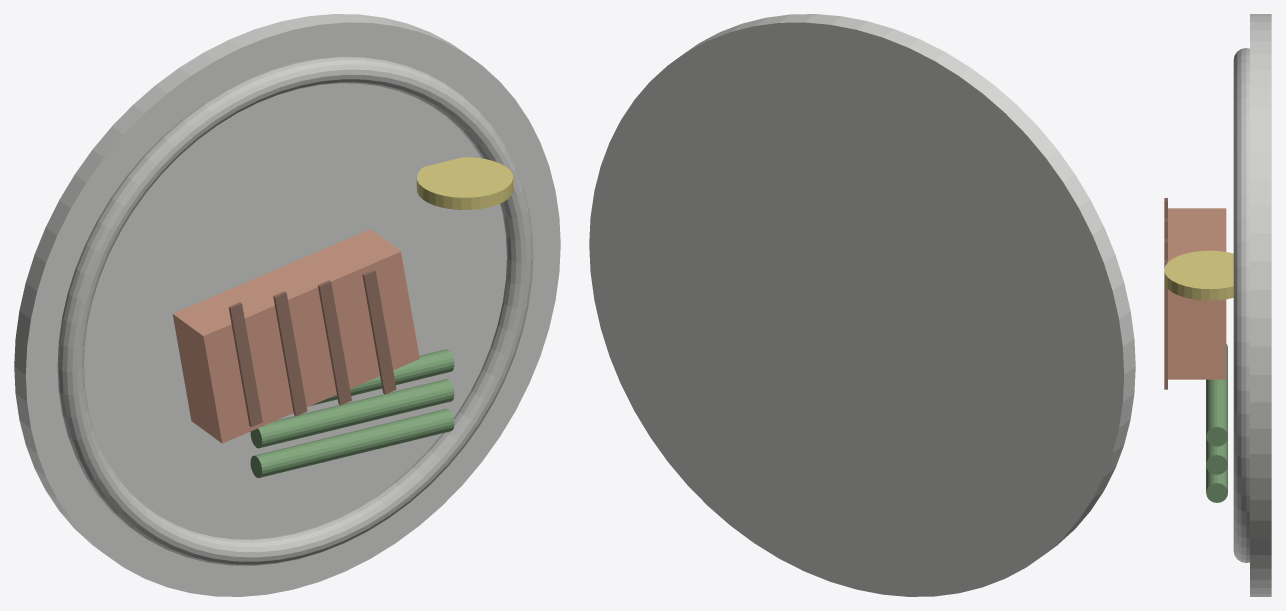
Rendered from grilled_salmon.glb.
3 renders of one model, left to right at view 1: azimuth 30°, elevation 25°; view 2: azimuth 150°, elevation 25°; view 3: azimuth 270°, elevation 25°, orthographic. The views are drawn at different scales.
Parts seen in each view (by area): view 1: plate, plate_rim, salmon, asp0, asp1, lemon, grill1, grill2, grill3, grill0, asp2; view 2: plate; view 3: plate, plate_rim, salmon, lemon, asp2, asp1, asp0, grill3.
Part boxes in pixels (x1,y1,x2,y2): plate: [14, 14, 560, 596]; plate_rim: [57, 56, 533, 565]; salmon: [172, 229, 419, 443]; asp0: [250, 408, 454, 477]; asp1: [250, 379, 454, 448]; lemon: [416, 157, 512, 209]; grill1: [273, 291, 307, 416]; grill2: [317, 280, 351, 405]; grill3: [362, 269, 396, 394]; grill0: [228, 302, 262, 426]; asp2: [311, 349, 454, 405]; plate: [589, 14, 1135, 596]; plate: [1250, 14, 1271, 596]; plate_rim: [1233, 48, 1249, 562]; salmon: [1168, 208, 1226, 379]; lemon: [1164, 250, 1233, 300]; asp2: [1206, 343, 1227, 446]; asp1: [1206, 437, 1227, 474]; asp0: [1206, 465, 1227, 502]; grill3: [1164, 259, 1167, 389].
Size of the model in its own units: 0.32 by 0.32 by 0.059.
